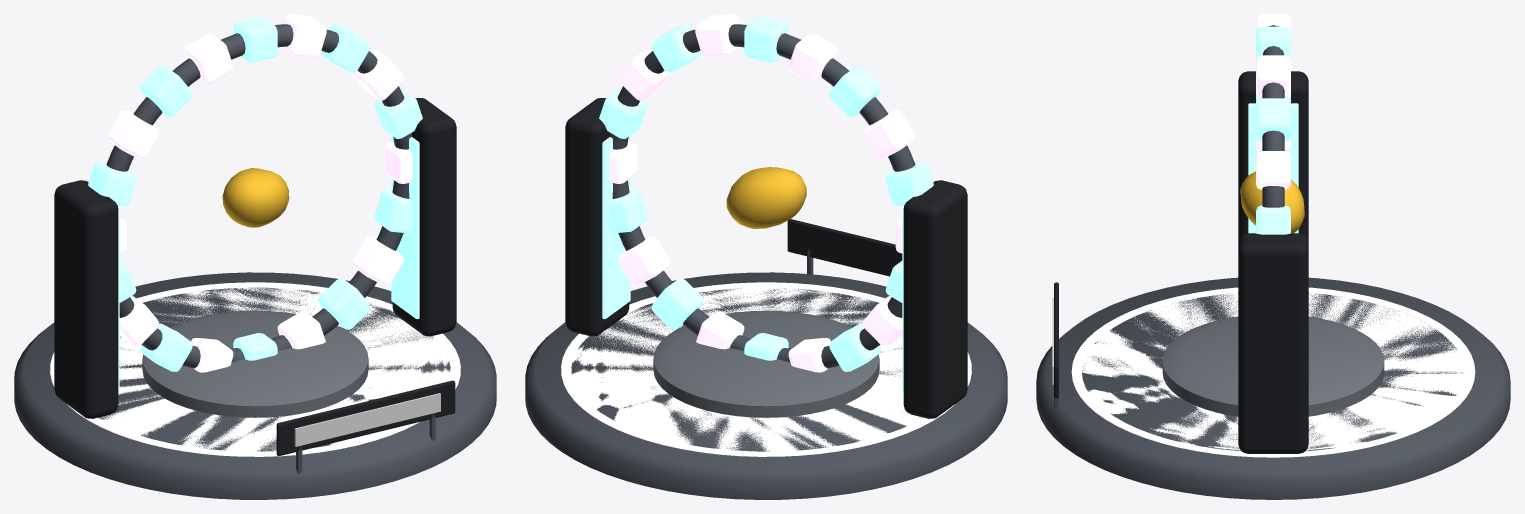
Rendered from QuantumConverter.fbx.
3 renders of one model, left to right at view 1: azimuth 30°, elevation 25°; view 2: azimuth 150°, elevation 25°; view 3: azimuth 270°, elevation 25°, orthographic.
Visible parts, largest first — view 1: Body__MetalDark, Body__Black, Body__NeonPurple, Body__Plate, Ring__NeonCyan, Ring__NeonPurple, Ring__MetalDark, Core__Gold, Body__NeonCyan, Body__NeonPurple!1; view 2: Body__MetalDark, Body__Black, Body__NeonPurple, Body__Plate, Ring__NeonCyan, Ring__NeonPurple, Ring__MetalDark, Core__Gold, Body__NeonCyan; view 3: Body__MetalDark, Body__NeonPurple, Body__Black, Body__Plate, Ring__NeonCyan, Ring__NeonPurple, Ring__MetalDark, Core__Gold, Body__NeonCyan.
Boxes of the visible parts, left/top/right/bottom form: Body__MetalDark: left=14, top=272, right=496, bottom=499; Body__Black: left=54, top=98, right=456, bottom=455; Body__NeonPurple: left=50, top=282, right=460, bottom=456; Body__Plate: left=142, top=310, right=368, bottom=417; Ring__NeonCyan: left=88, top=16, right=422, bottom=371; Ring__NeonPurple: left=107, top=14, right=412, bottom=372; Ring__MetalDark: left=106, top=24, right=411, bottom=368; Core__Gold: left=222, top=168, right=289, bottom=227; Body__NeonCyan: left=118, top=135, right=419, bottom=391; Body__NeonPurple!1: left=294, top=393, right=440, bottom=446; Body__MetalDark: left=525, top=249, right=1007, bottom=499; Body__Black: left=565, top=98, right=967, bottom=418; Body__NeonPurple: left=561, top=282, right=971, bottom=456; Body__Plate: left=653, top=310, right=879, bottom=417; Ring__NeonCyan: left=599, top=16, right=933, bottom=371; Ring__NeonPurple: left=609, top=14, right=914, bottom=372; Ring__MetalDark: left=610, top=24, right=915, bottom=368; Core__Gold: left=726, top=167, right=806, bottom=228; Body__NeonCyan: left=602, top=135, right=903, bottom=391; Body__MetalDark: left=1036, top=277, right=1510, bottom=499; Body__NeonPurple: left=1071, top=287, right=1475, bottom=457; Body__Black: left=1054, top=71, right=1308, bottom=453; Body__Plate: left=1162, top=316, right=1384, bottom=416; Ring__NeonCyan: left=1256, top=26, right=1290, bottom=234; Ring__NeonPurple: left=1256, top=14, right=1290, bottom=189; Ring__MetalDark: left=1262, top=25, right=1284, bottom=207; Core__Gold: left=1240, top=171, right=1304, bottom=233; Body__NeonCyan: left=1248, top=103, right=1298, bottom=233.
Size of the model in its own units: 9.4 by 8.55 by 9.4.
